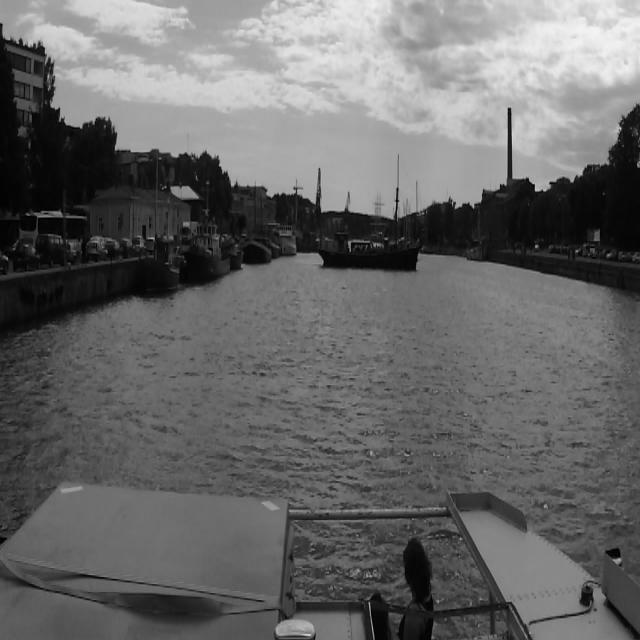ship: (318, 233, 418, 272), (187, 198, 231, 276), (140, 227, 182, 288), (366, 188, 384, 242), (246, 237, 272, 266), (275, 223, 297, 257)
